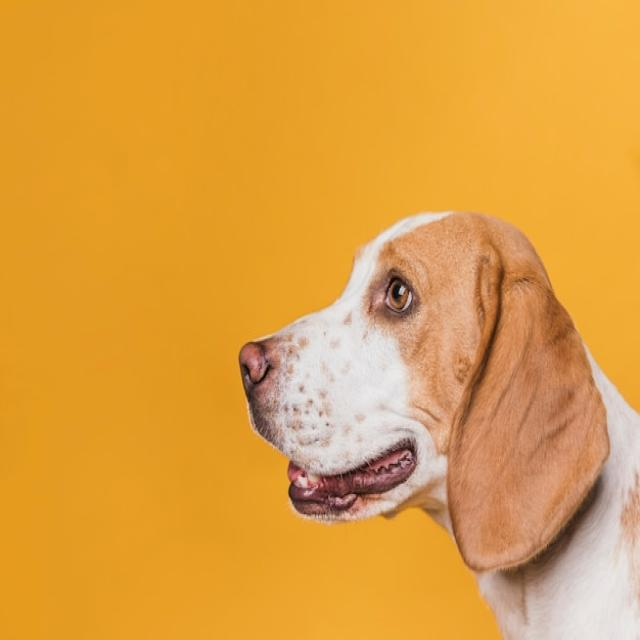Dog: (237, 211, 640, 640)
